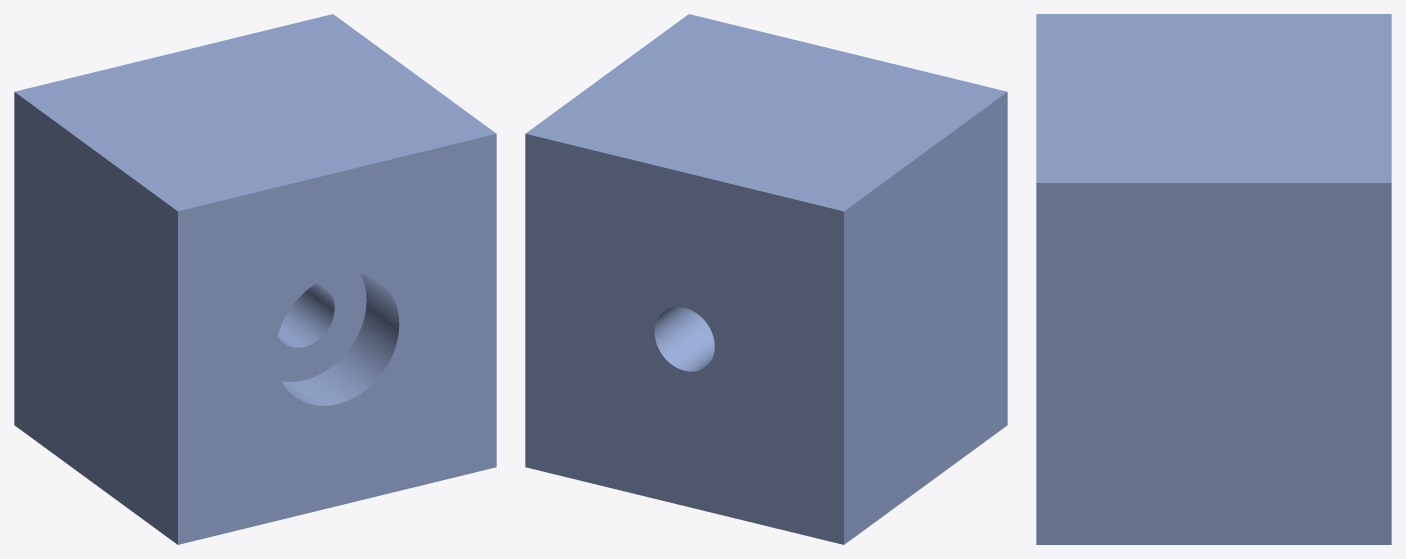
File: counterbore_demo.glb
3 views of the same model, side by side, from view 1: azimuth 30°, elevation 25°; view 2: azimuth 150°, elevation 25°; view 3: azimuth 270°, elevation 25° (orthographic). The views are drawn at different scales.
Parts seen in each view (by area): view 1: counterbored_block; view 2: counterbored_block; view 3: counterbored_block.
Part boxes in pixels (x1,y1,x2,y2): counterbored_block: (14,14,496,544); counterbored_block: (525,14,1007,544); counterbored_block: (1036,14,1391,544).
Bounding box in the file's own units: 18 × 18 × 16.
